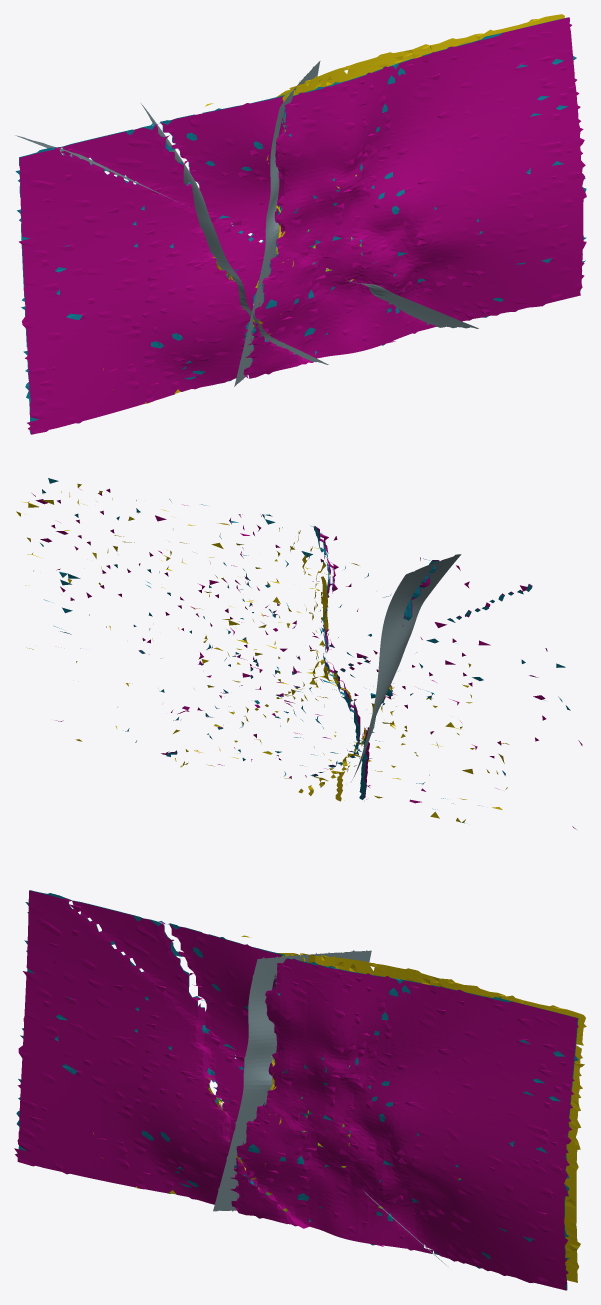
The model's file is 05_alesmodel.glb.
The picture shows the model from 3 angles, top to bottom: view 1: azimuth 30°, elevation 25°; view 2: azimuth 150°, elevation 25°; view 3: azimuth 330°, elevation 25°; orthographic projection. The views are drawn at different scales.
Visible parts, largest first — view 1: TRIAS, LIAS, CARBO, fault_right, fault_left, fault_lr; view 2: fault_left, CARBO, LIAS, TRIAS; view 3: TRIAS, fault_right, CARBO, LIAS.
Part boxes in pixels (x1,y1,x2,y2): TRIAS: [19, 17, 586, 434]; LIAS: [15, 17, 586, 434]; CARBO: [103, 14, 564, 403]; fault_right: [234, 61, 320, 386]; fault_left: [141, 103, 328, 364]; fault_lr: [15, 135, 478, 328]; fault_left: [351, 554, 461, 781]; CARBO: [16, 483, 509, 822]; LIAS: [33, 478, 570, 823]; TRIAS: [32, 488, 582, 829]; TRIAS: [14, 890, 578, 1290]; fault_right: [213, 950, 371, 1211]; CARBO: [93, 935, 586, 1282]; LIAS: [16, 890, 578, 1289].
Bounding box in the file's own units: 21946 × 10151 × 2597.
